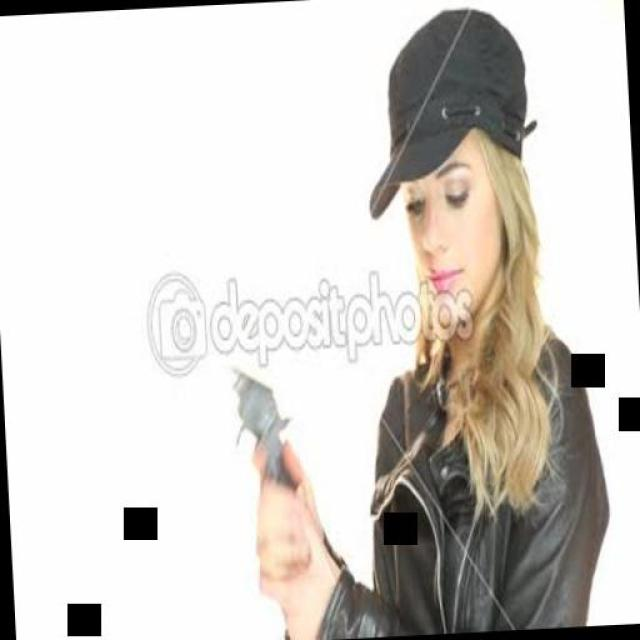gun: (208, 350, 306, 516)
